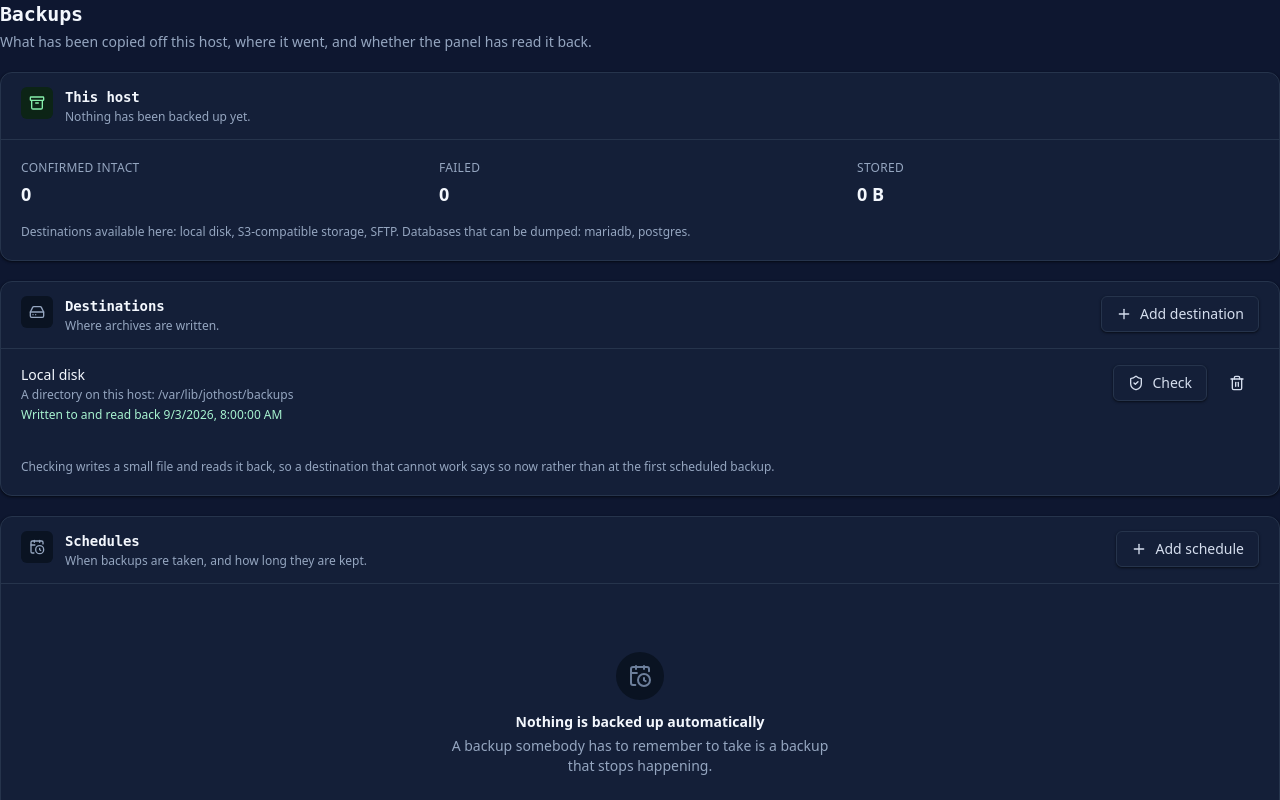
Test: BackupsPage › shows the reason a destination was refused
The width and height of the screenshot is (1280, 800).
Click the button "Add destination".
click(1180, 314)  # box x1=1101 y1=296 x2=1259 y2=332
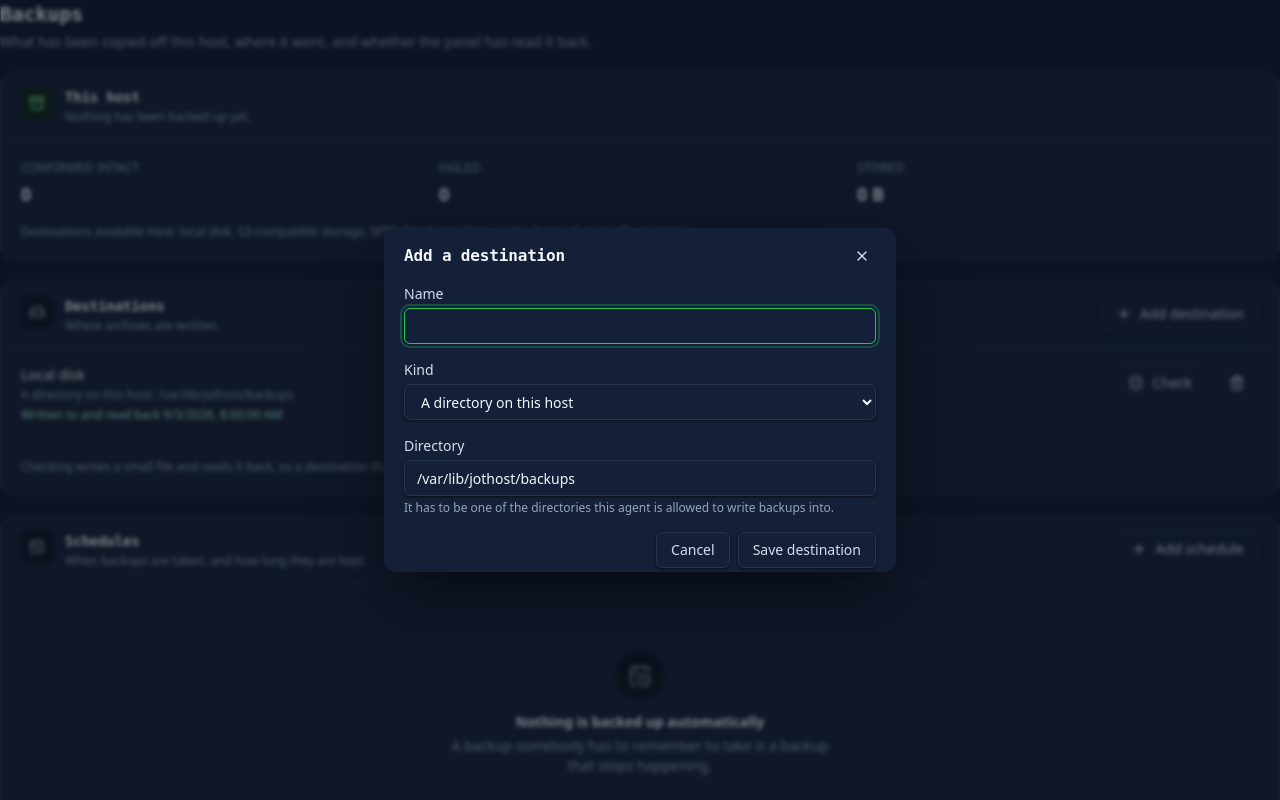
Type "Offsite" into the field labelled "Name".
click(640, 326); type("Offsite")  # box x1=404 y1=308 x2=876 y2=344
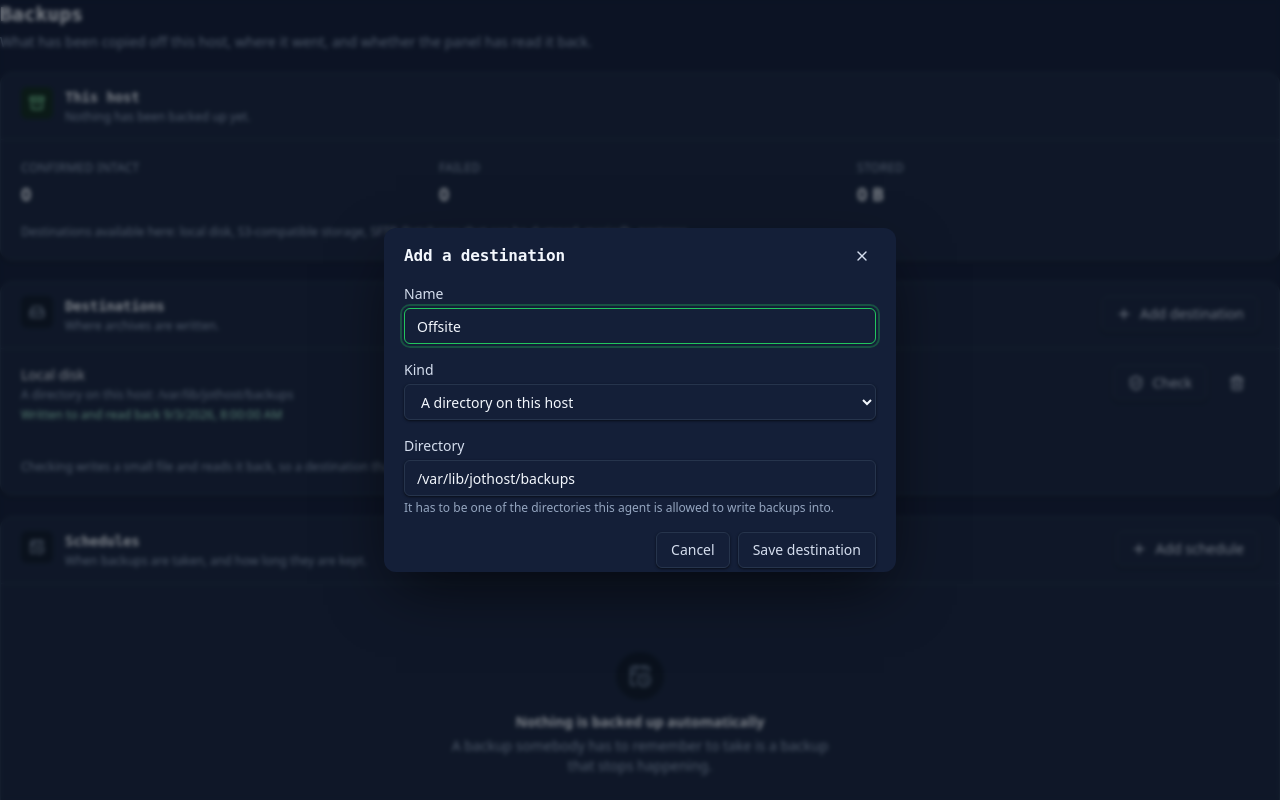
Click the button "Save destination".
click(807, 550)  # box x1=738 y1=532 x2=876 y2=568
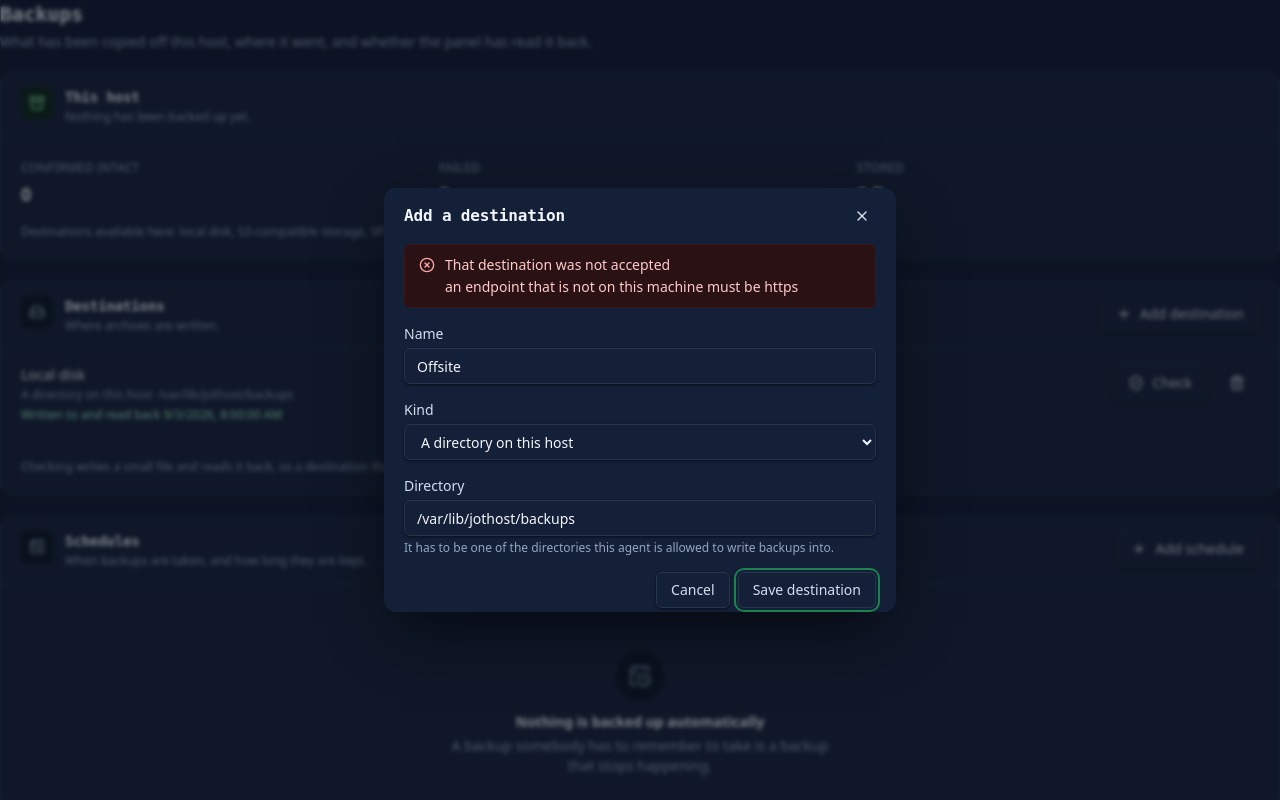
expect the text "an endpoint that is not on this machine must be https" is shown: met, box x1=445 y1=277 x2=798 y2=296
